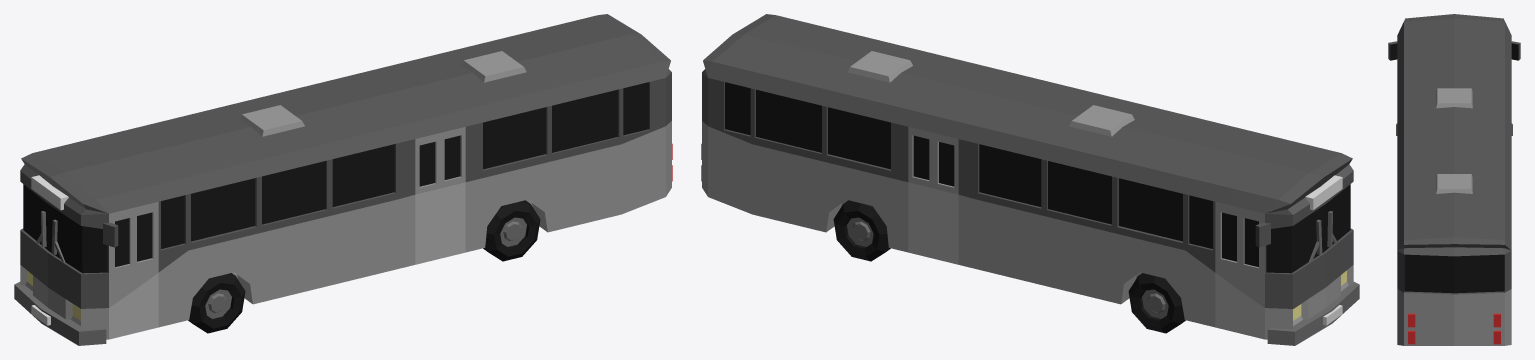
The model's file is vehicle_static_bus.glb.
3 views of the same model, side by side, from view 1: azimuth 30°, elevation 25°; view 2: azimuth 150°, elevation 25°; view 3: azimuth 270°, elevation 25° (orthographic). The views are drawn at different scales.
Visible parts, largest first — view 1: WheelB-4; view 2: WheelB-4; view 3: WheelB-4.
Boxes of the visible parts, x1,y1,x2,y2 form: WheelB-4: (14, 14, 672, 345); WheelB-4: (701, 14, 1359, 345); WheelB-4: (1388, 14, 1520, 345).
Bounding box in the file's own units: 10.35 × 2.75 × 2.47.
Materials: 4 (4 with a texture image).
